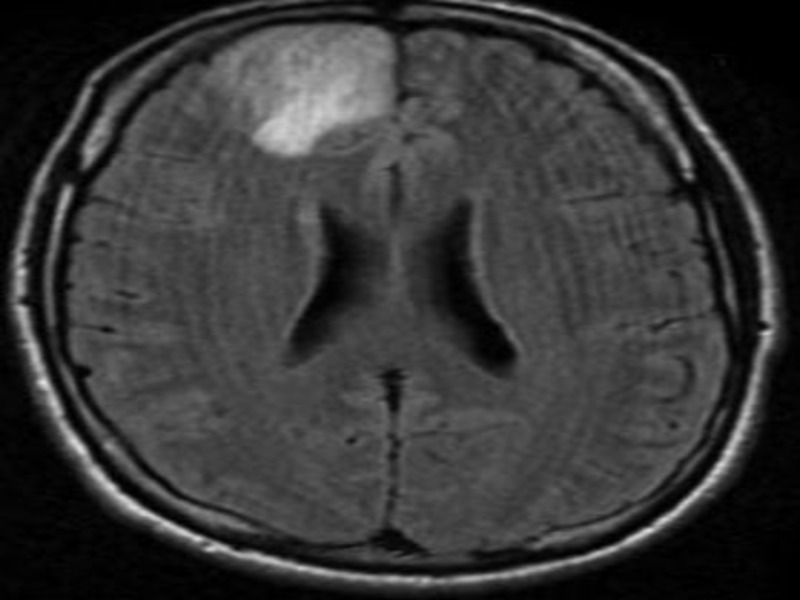tumor: (240, 54, 402, 170)
